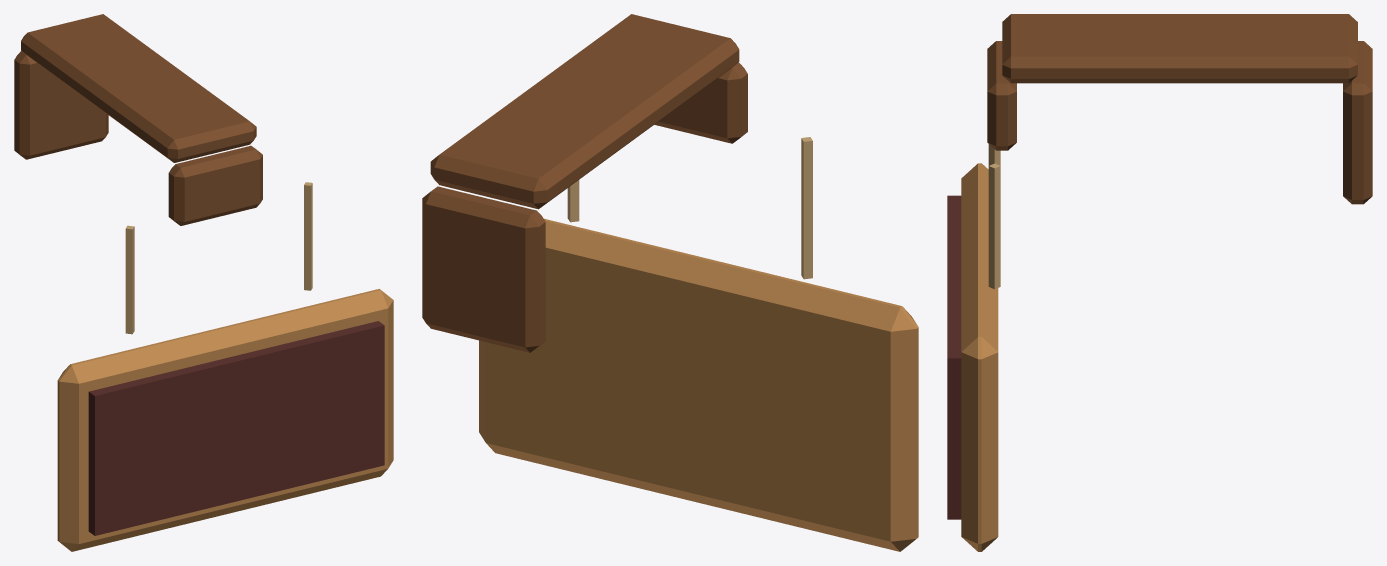
File: seat_reservation_marker.glb
3 renders of one model, left to right at view 1: azimuth 30°, elevation 25°; view 2: azimuth 150°, elevation 25°; view 3: azimuth 270°, elevation 25°, orthographic. The views are drawn at different scales.
Visible parts, largest first — view 1: seat_reservation_marker; view 2: seat_reservation_marker; view 3: seat_reservation_marker.
Boxes of the visible parts, x1,y1,x2,y2 form: seat_reservation_marker: (14,14,393,551); seat_reservation_marker: (422,14,918,551); seat_reservation_marker: (947,14,1372,551).
Bounding box in the file's own units: 0.3 × 0.32 × 0.287.
